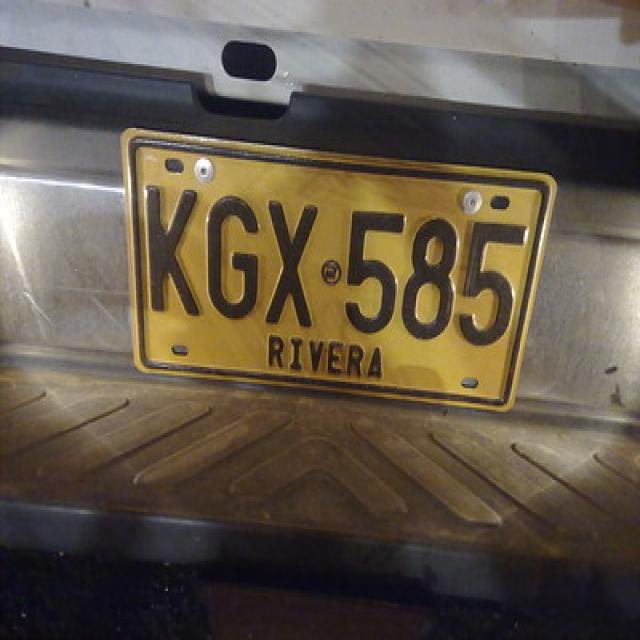placa_carro: (124, 122, 563, 425)
